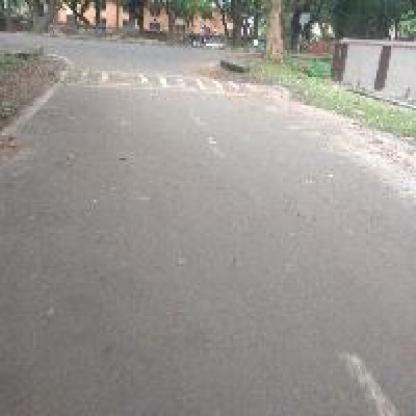Speed Bump: (60, 69, 264, 92)
